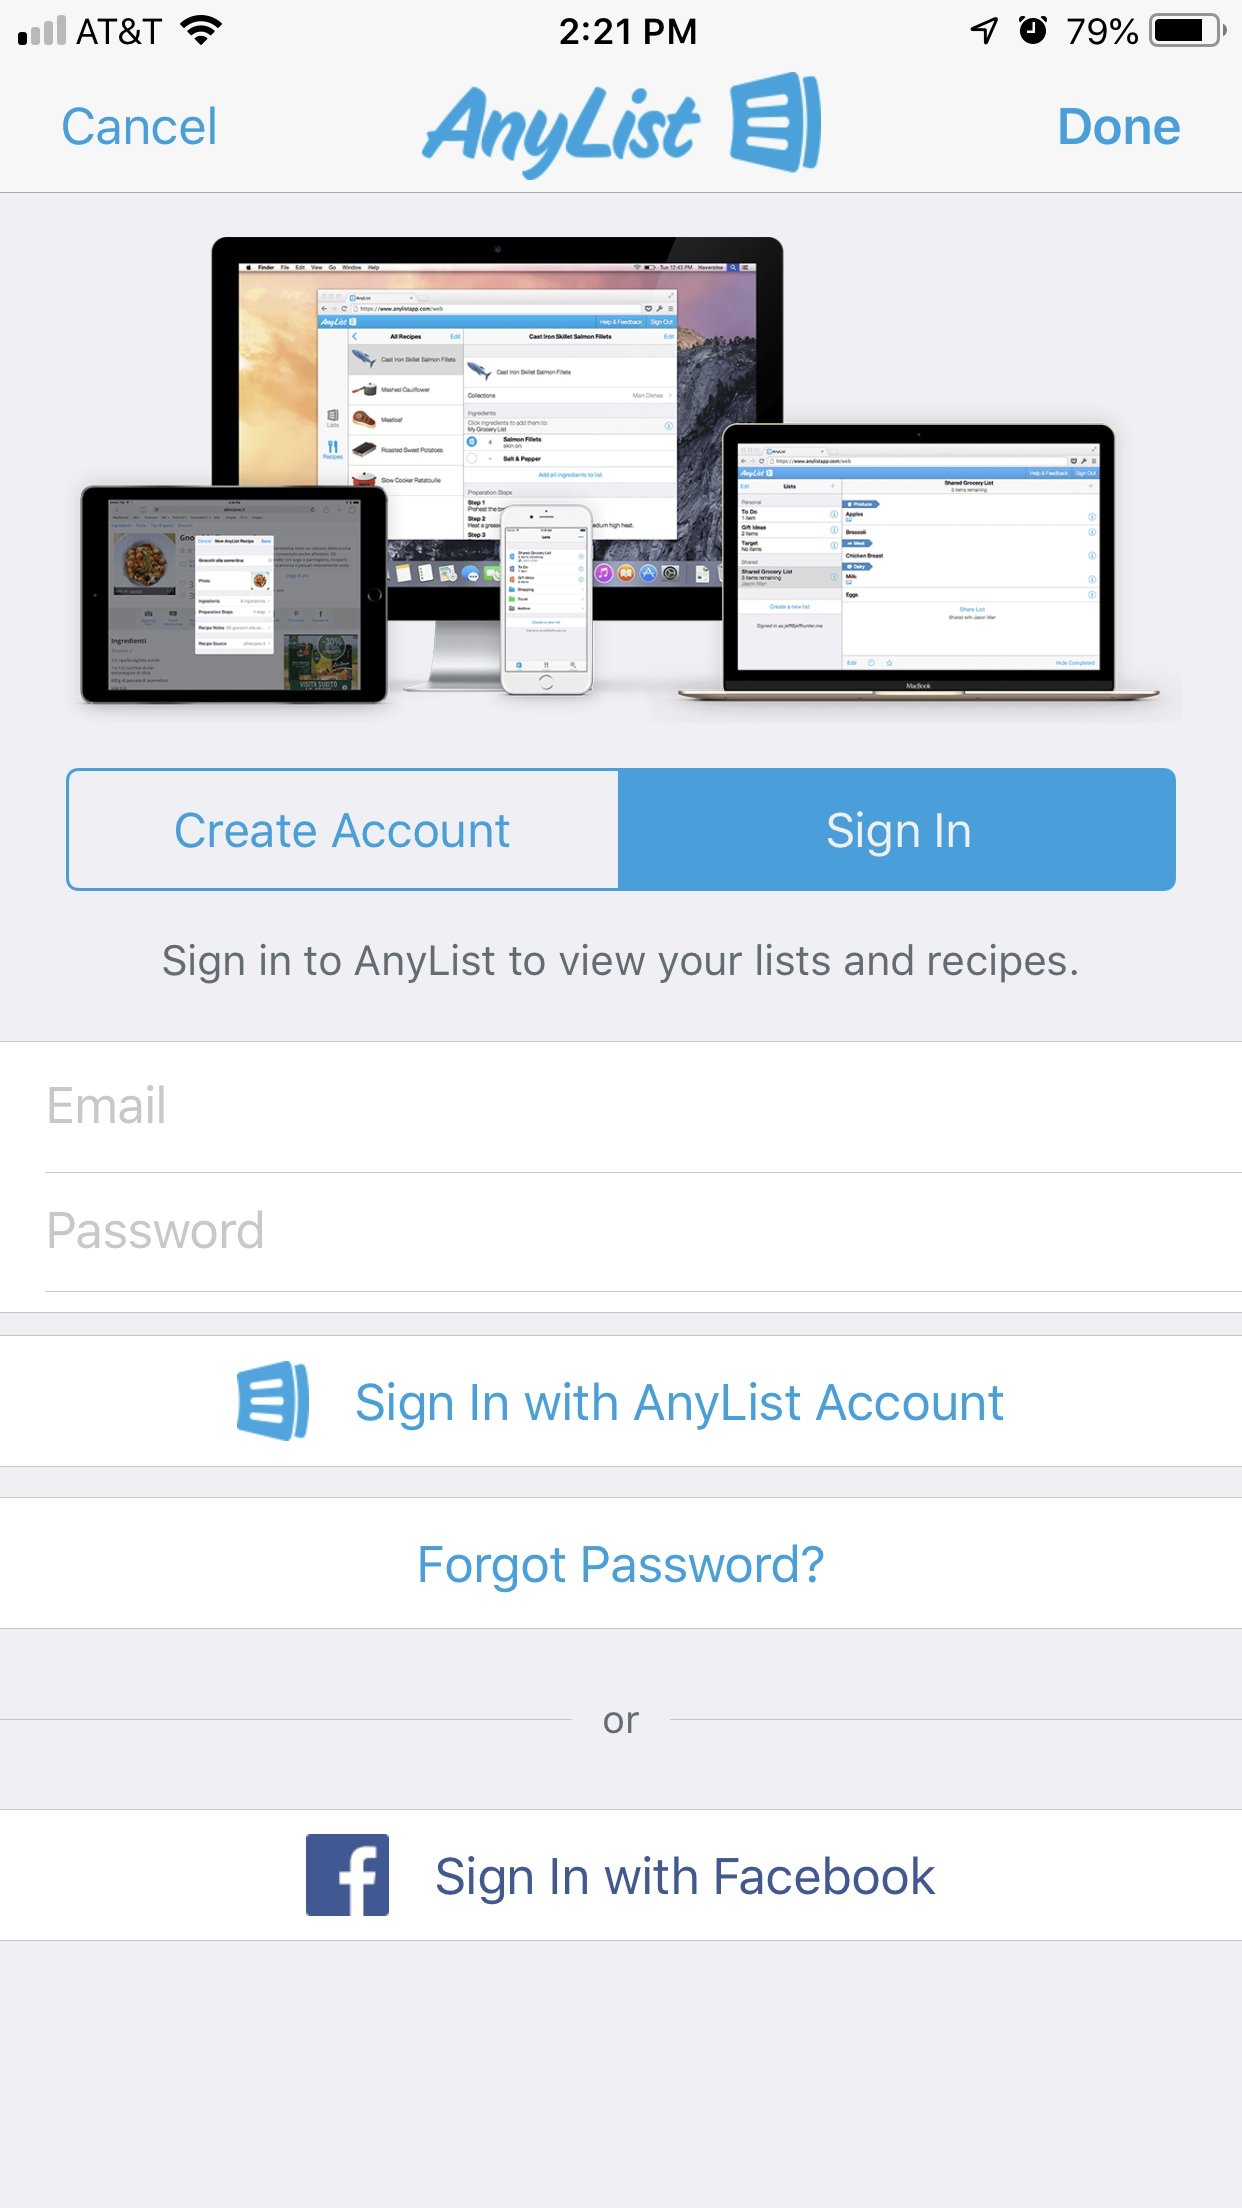EditText: (45, 1084, 1242, 1174), (45, 1210, 1242, 1294)
Icon: (729, 71, 822, 174), (306, 1833, 390, 1917), (237, 1360, 311, 1442)
Image: (80, 237, 1162, 707)
Text: (164, 943, 1078, 986), (356, 1382, 1004, 1432), (422, 86, 702, 182), (437, 1855, 936, 1905), (420, 1542, 825, 1592), (49, 1210, 262, 1250), (64, 108, 217, 147), (50, 1084, 165, 1125), (1060, 108, 1181, 146), (604, 1712, 641, 1735)
TextButton: (619, 767, 1177, 892), (67, 767, 619, 892)
UpperTaskBar: (2, 2, 1242, 49)
